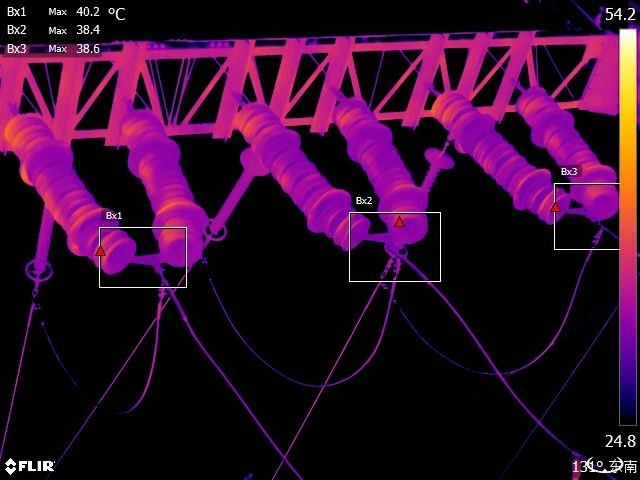clamp: (376, 250, 412, 283), (149, 274, 172, 311), (25, 285, 48, 318), (589, 220, 612, 244)
insulator: (7, 111, 135, 273), (236, 94, 364, 248), (431, 86, 565, 229), (519, 76, 617, 220), (117, 113, 206, 265), (335, 94, 422, 241), (200, 147, 262, 241), (418, 145, 455, 196)
